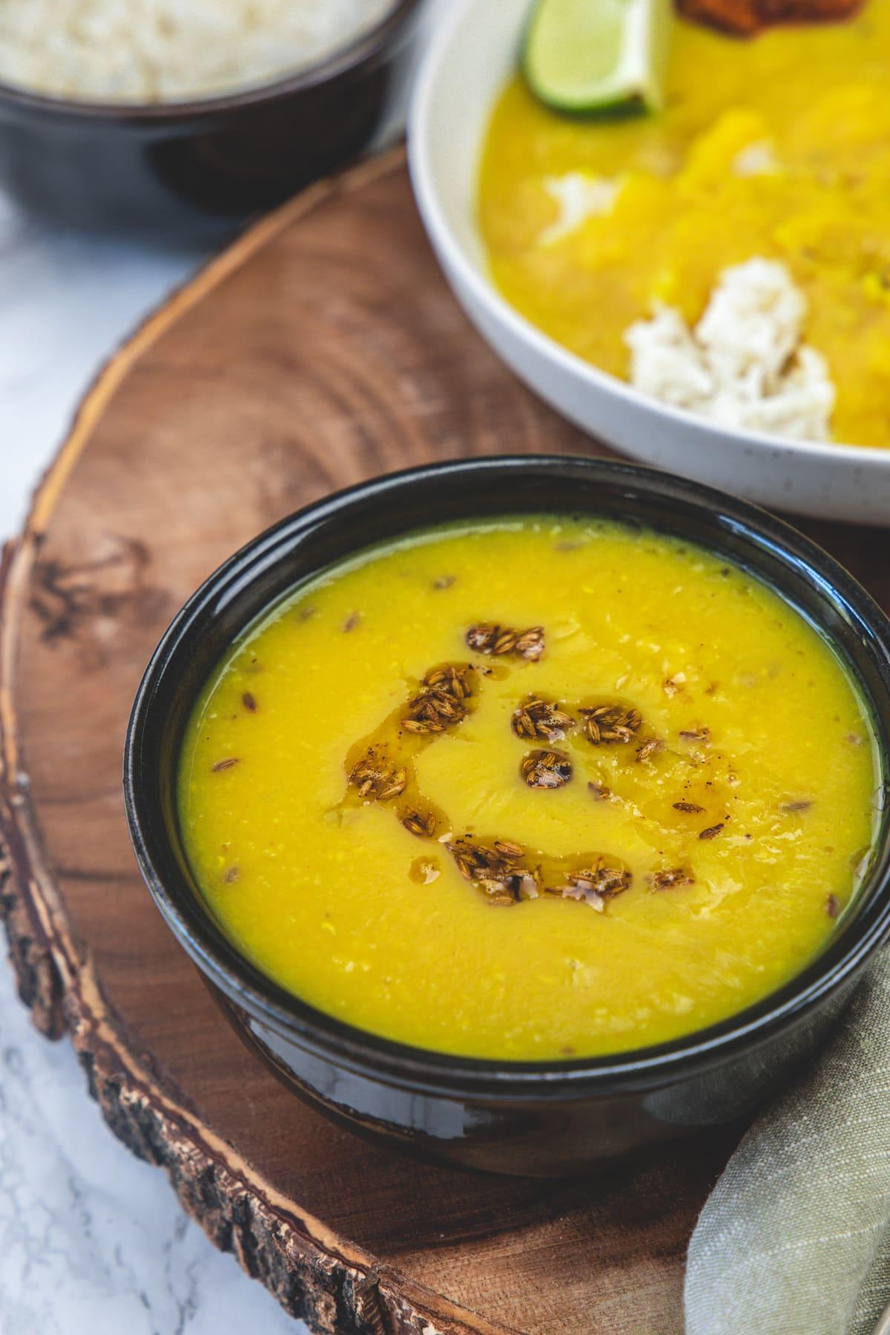varan: (231, 439, 890, 1024)
